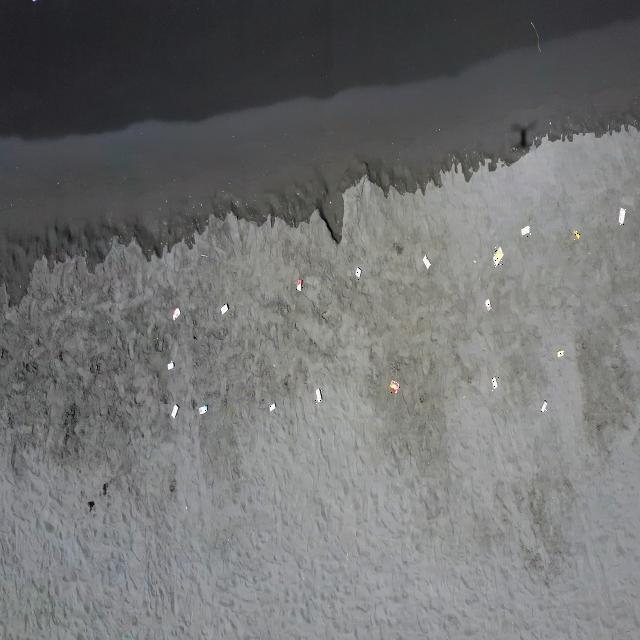Garbage: (529, 20, 540, 51), (492, 247, 503, 266), (388, 380, 399, 393), (617, 207, 624, 224), (169, 404, 178, 417), (172, 307, 180, 320), (422, 256, 430, 268), (572, 228, 580, 239), (520, 224, 528, 235), (296, 279, 303, 291), (540, 400, 547, 412), (198, 404, 207, 413), (315, 387, 320, 403), (220, 303, 227, 313), (88, 500, 94, 511), (268, 403, 275, 412), (555, 349, 563, 356), (355, 267, 360, 278), (484, 299, 489, 310), (492, 376, 496, 388), (167, 360, 172, 368), (200, 253, 207, 256), (472, 259, 475, 263)
